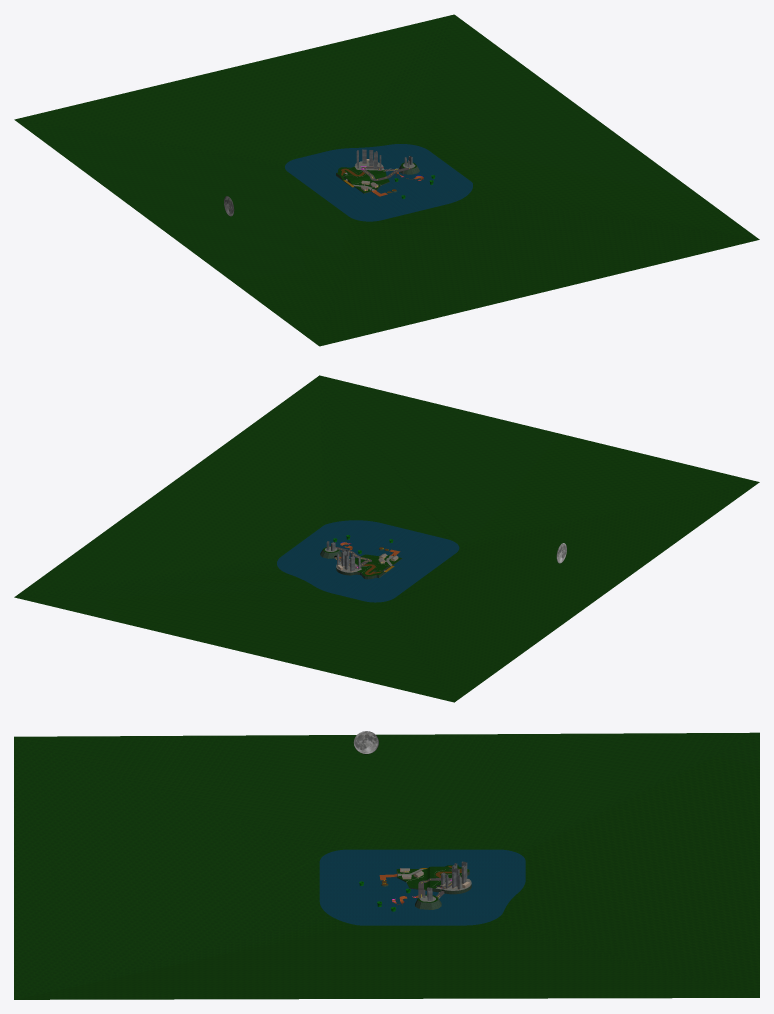
The picture shows the model from 3 angles, top to bottom: view 1: azimuth 30°, elevation 25°; view 2: azimuth 150°, elevation 25°; view 3: azimuth 270°, elevation 25°; orthographic projection. The views are drawn at different scales.
Visible parts, largest first — view 1: h_Main-Realgrass.001, h_Main-Water_Sparkling.001; view 2: h_Main-Realgrass.001, h_Main-Water_Sparkling.001; view 3: h_Main-Realgrass.001, h_Main-Water_Sparkling.001, h_Main-Buildings.001, h_Main-Moon.001, h_Main-Wall.001.
Boxes of the visible parts, x1,y1,x2,y2 form: h_Main-Realgrass.001: [14, 14, 759, 346]; h_Main-Water_Sparkling.001: [285, 144, 472, 221]; h_Main-Realgrass.001: [14, 375, 759, 702]; h_Main-Water_Sparkling.001: [277, 520, 459, 602]; h_Main-Realgrass.001: [14, 732, 759, 999]; h_Main-Water_Sparkling.001: [319, 849, 525, 925]; h_Main-Buildings.001: [423, 861, 467, 900]; h_Main-Moon.001: [353, 731, 378, 754]; h_Main-Wall.001: [381, 869, 471, 909].
Bounding box in the file's own units: 584879 × 53316 × 702823.
Materials: 25 (25 with a texture image).
